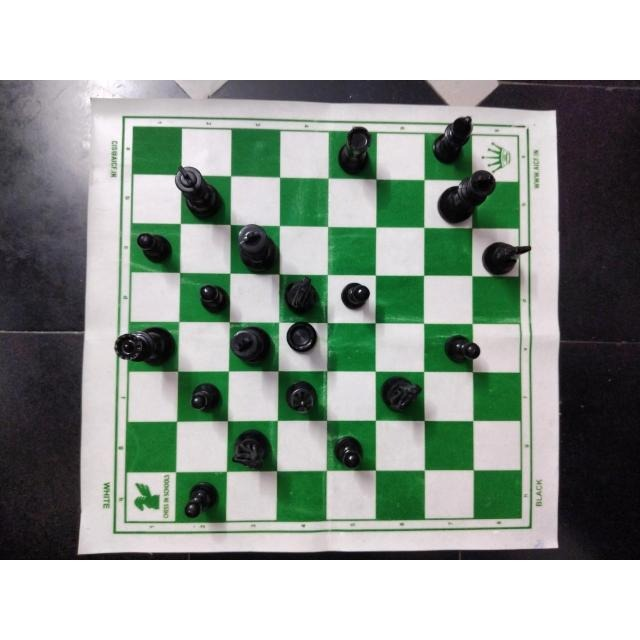black-bishop: (431, 113, 475, 168), (281, 379, 323, 416)
black-king: (433, 169, 499, 226), (172, 161, 228, 223), (235, 221, 279, 273), (228, 326, 274, 370)
black-knight: (479, 238, 533, 276), (378, 374, 424, 417), (231, 428, 275, 472), (280, 276, 322, 316)
black-pawn: (182, 479, 222, 520), (133, 230, 175, 266), (444, 332, 482, 367), (189, 380, 225, 416), (332, 434, 366, 472), (196, 282, 232, 316), (338, 279, 372, 313)
black-queen: (113, 324, 177, 374)
black-rook: (335, 124, 375, 180), (282, 320, 321, 355)
